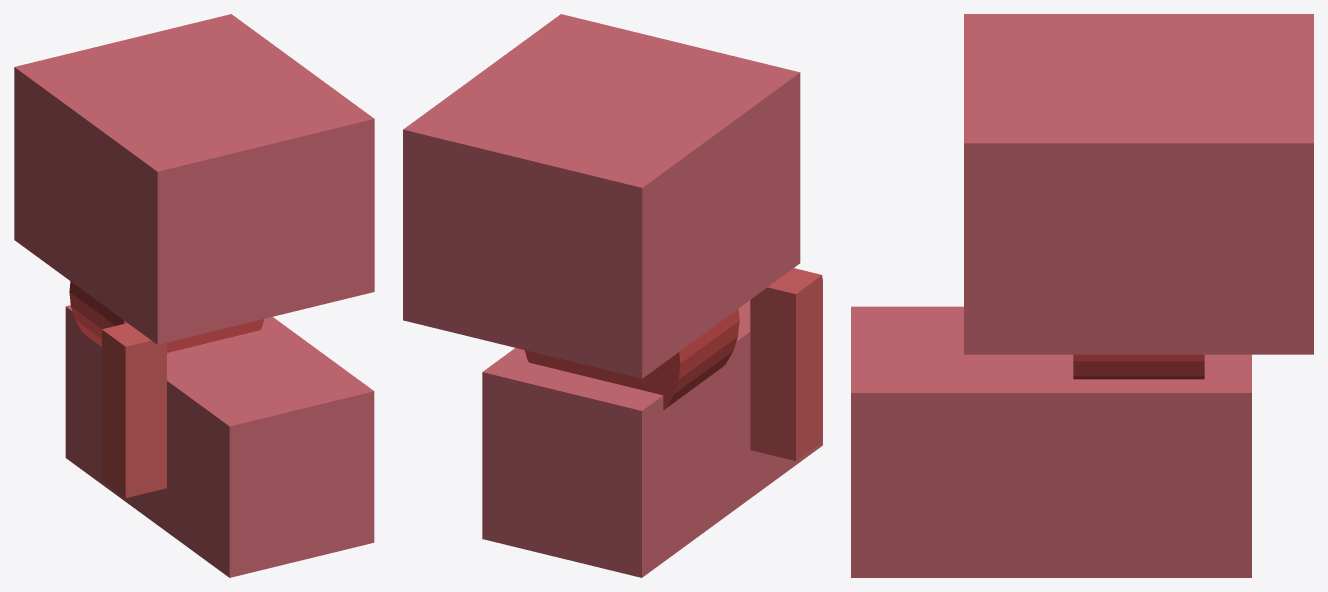
Rendered from arm_left_002_valkyrion.glb.
3 views of the same model, side by side, from view 1: azimuth 30°, elevation 25°; view 2: azimuth 150°, elevation 25°; view 3: azimuth 270°, elevation 25° (orthographic). The views are drawn at different scales.
Visible parts, largest first — view 1: geometry_0, geometry_1, geometry_3, geometry_2; view 2: geometry_0, geometry_1, geometry_3, geometry_2; view 3: geometry_0, geometry_1, geometry_2.
Boxes of the visible parts, left/top/right/bottom form: geometry_0: left=14, top=14, right=374, bottom=344; geometry_1: left=65, top=305, right=374, bottom=577; geometry_3: left=102, top=323, right=166, bottom=497; geometry_2: left=69, top=281, right=264, bottom=352; geometry_0: left=403, top=14, right=800, bottom=378; geometry_1: left=482, top=278, right=822, bottom=577; geometry_3: left=750, top=268, right=822, bottom=460; geometry_2: left=524, top=308, right=739, bottom=410; geometry_0: left=964, top=14, right=1313, bottom=354; geometry_1: left=851, top=306, right=1251, bottom=577; geometry_2: left=1073, top=354, right=1204, bottom=379.
Bounding box in the file's own units: 0.47 × 0.7 × 0.635.
